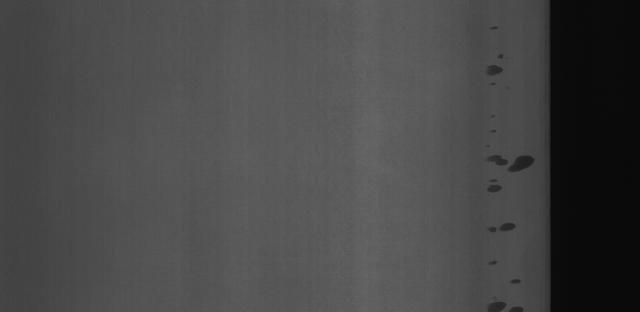oil_spot: (484, 23, 514, 98), (484, 144, 542, 176), (483, 219, 518, 244), (480, 290, 519, 312), (479, 178, 514, 194), (483, 261, 508, 274)
